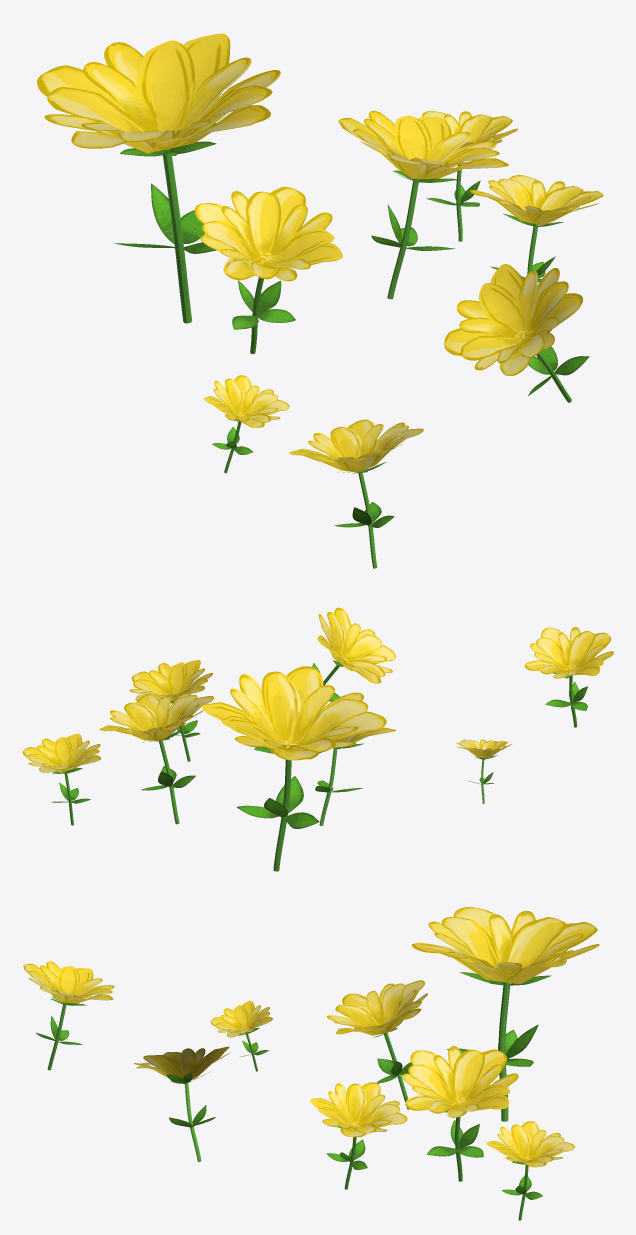
Rendered from Flower1.fbx.
3 views of the same model, one above another, from view 1: azimuth 30°, elevation 25°; view 2: azimuth 150°, elevation 25°; view 3: azimuth 270°, elevation 25° (orthographic). The views are drawn at different scales.
Visible parts, largest first — view 1: Flower1Group; view 2: Flower1Group; view 3: Flower1Group.
Part boxes in pixels (x1,y1,x2,y2): Flower1Group: (37,33,603,568); Flower1Group: (22,607,613,871); Flower1Group: (23,907,599,1220).
Bounding box in the file's own units: 874 × 377 × 1128.
